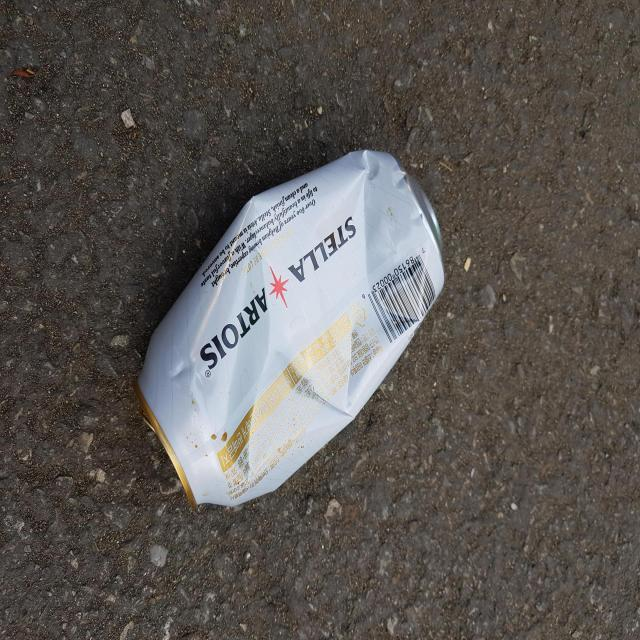can: (134, 149, 445, 507)
